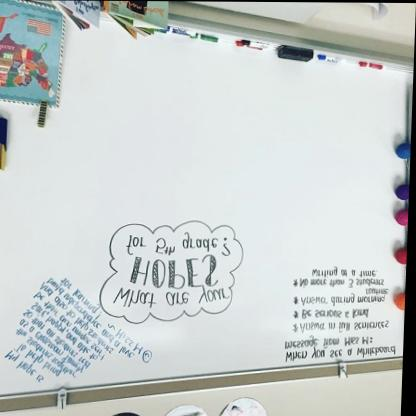Handwritten text: (0, 265, 163, 416), (112, 227, 230, 313), (280, 330, 405, 366), (304, 262, 383, 289), (299, 288, 390, 308), (300, 318, 394, 337), (298, 304, 377, 321)
Whiteboard: (0, 1, 415, 412)
